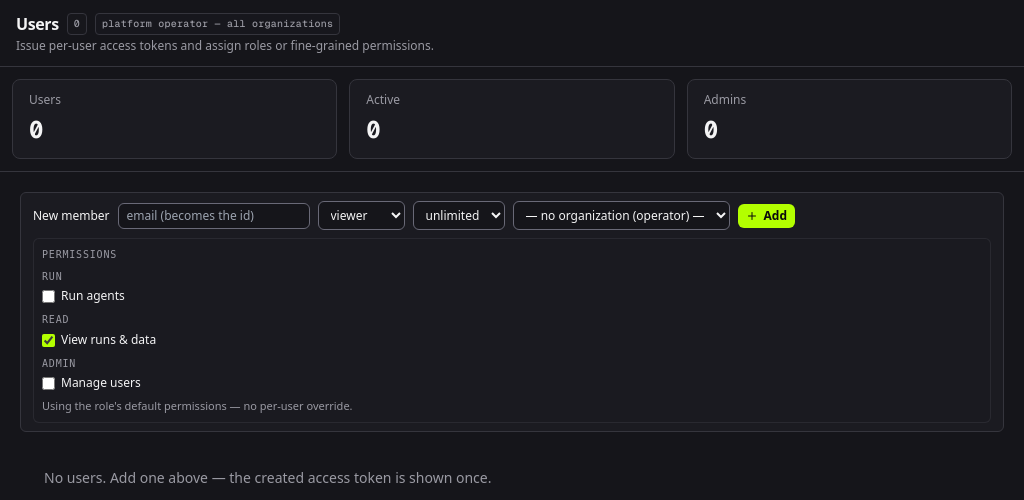
Scenario: Users: CreateUser permission editor (catalog enabled) › picking a role seeds the checkboxes from rolePresets[role]
Expected: the text "Permissions" is shown, 42,249 -> 117,260
Expected: the checkbox labelled "View runs & data" is checked, 42,334 -> 55,346
Select "member" in the dropdown named "Role". click: point(361, 216)
box: 318,201 -> 404,230
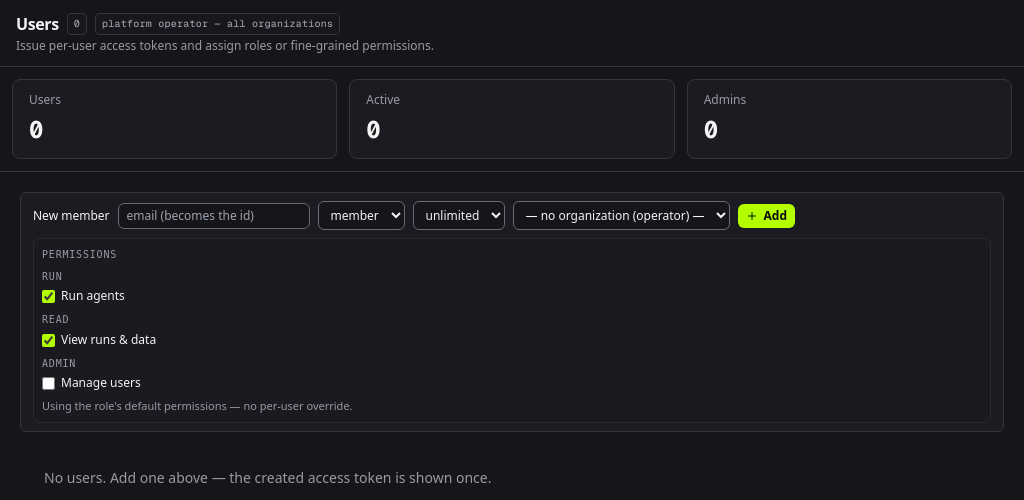
Expected: the checkbox labelled "Manage users" is not checked, 42,377 -> 55,390
Expected: the checkbox labelled "Run agents" is checked, 42,290 -> 55,303
